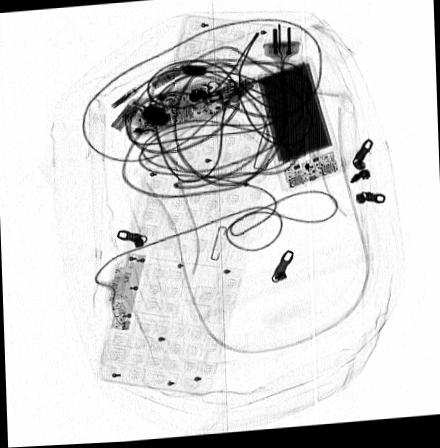Powerbank: (252, 59, 345, 194)
